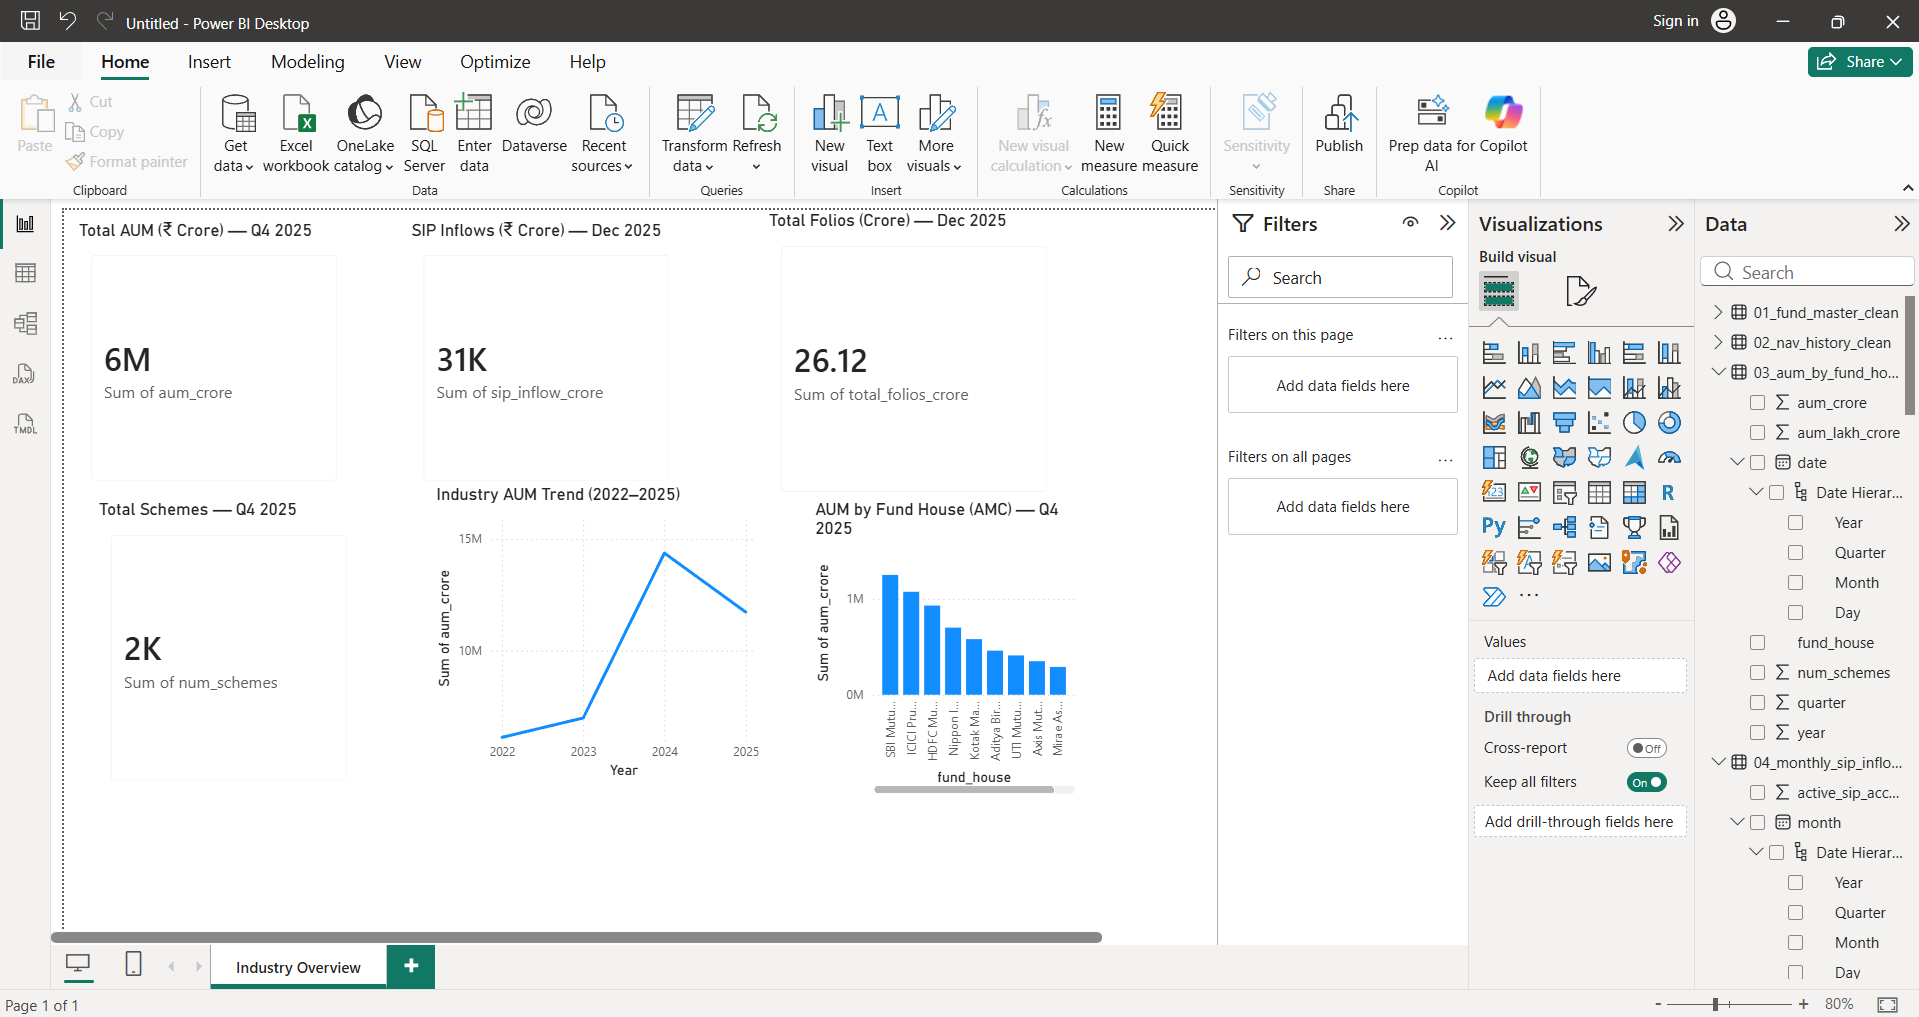

What the dashboard file says about the page in this screenshot:
{"tool":"powerbi","page":{"name":"Industry Overview","canvas":[1280,720],"ordinal":0},"visuals":[{"type":"cardVisual","title":"SIP Inflows (₹ Crore) — Dec 2025","fields":{"Data":["Sum(04_monthly_sip_inflows_clean.sip_inflow_crore)"]},"box":[405,113.8,280,280],"z":0},{"type":"cardVisual","title":"Total AUM (₹ Crore) — Q4 2025","fields":{"Data":["Sum(03_aum_by_fund_house_clean.aum_crore)"]},"box":[76.2,113.8,280,280],"z":1000},{"type":"cardVisual","title":"Total Folios (Crore) — Dec 2025","fields":{"Data":["Sum(06_industry_folio_count_clean.total_folios_crore)"]},"box":[860,103.8,300,300],"z":2000},{"type":"cardVisual","title":"Total Schemes — Q4 2025","fields":{"Data":["Sum(03_aum_by_fund_house_clean.num_schemes)"]},"box":[86.2,420,270,300],"z":3000},{"type":"lineChart","title":"Industry AUM Trend (2022–2025)","fields":{"Category":["03_aum_by_fund_house_clean.date.Variation.Date Hierarchy.Year","03_aum_by_fund_house_clean.date.Variation.Date Hierarchy.Quarter","03_aum_by_fund_house_clean.date.Variation.Date Hierarchy.Month","03_aum_by_fund_house_clean.date.Variation.Date Hierarchy.Day"],"Y":["Sum(03_aum_by_fund_house_clean.aum_crore)"]},"box":[473.8,393.8,332.5,300],"z":4000},{"type":"clusteredColumnChart","title":"AUM by Fund House (AMC) — Q4 2025","fields":{"Category":["03_aum_by_fund_house_clean.fund_house"],"Y":["Sum(03_aum_by_fund_house_clean.aum_crore)"]},"box":[905,360,270,300],"z":5000},{"type":"textbox","box":[356.2,0,923.8,67.5],"z":6000}]}

Visuals, with their boxes on the page's 1280x720 design canvas (x1, y1, x2, y2). These are canvas units, not pixel positions in the 1919x1017 screenshot, which may show the page scaled, cropped or inside an application window:
"SIP Inflows (₹ Crore) — Dec 2025" cardVisual: locate(405, 114, 685, 394)
"Total AUM (₹ Crore) — Q4 2025" cardVisual: locate(76, 114, 356, 394)
"Total Folios (Crore) — Dec 2025" cardVisual: locate(860, 104, 1160, 404)
"Total Schemes — Q4 2025" cardVisual: locate(86, 420, 356, 720)
"Industry AUM Trend (2022–2025)" lineChart: locate(474, 394, 806, 694)
"AUM by Fund House (AMC) — Q4 2025" clusteredColumnChart: locate(905, 360, 1175, 660)
textbox: locate(356, 0, 1280, 68)
